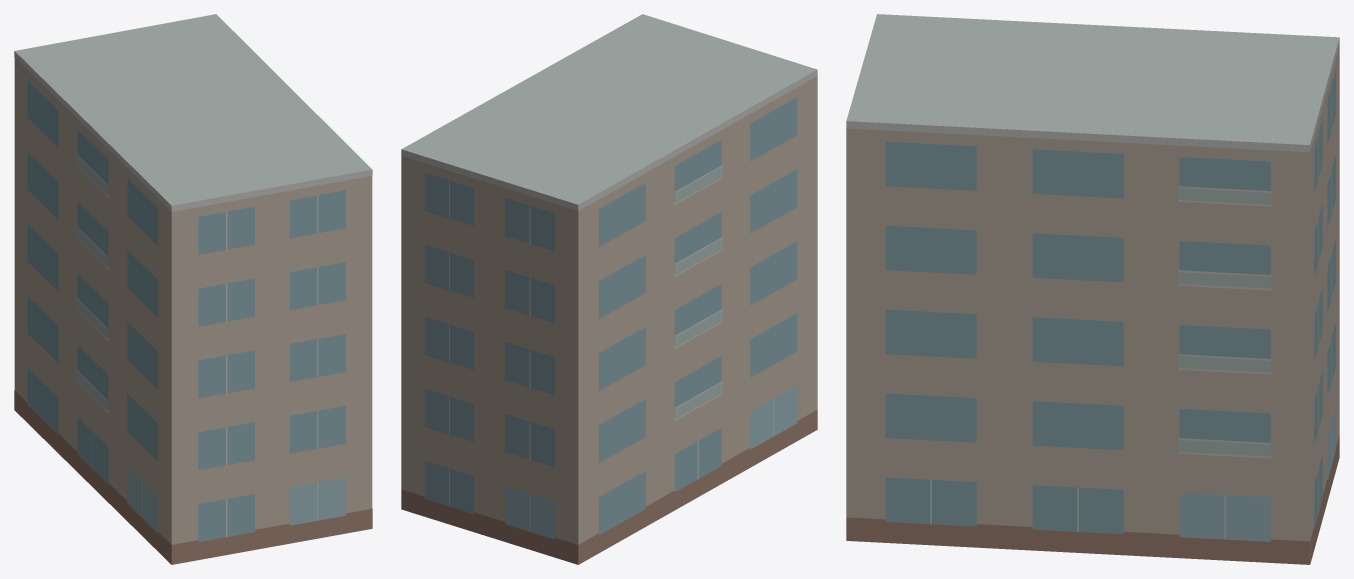
File: survey-upis-32873765.glb
3 renders of one model, left to right at view 1: azimuth 30°, elevation 25°; view 2: azimuth 150°, elevation 25°; view 3: azimuth 270°, elevation 25°, orthographic. The views are drawn at different scales.
Visible parts, largest first — view 1: survey-upis-32873765.tmp; view 2: survey-upis-32873765.tmp; view 3: survey-upis-32873765.tmp.
Boxes of the visible parts, box(x1,y1,x2,y2) form: survey-upis-32873765.tmp: box(14, 14, 372, 564); survey-upis-32873765.tmp: box(401, 14, 817, 564); survey-upis-32873765.tmp: box(846, 14, 1339, 564).
Bounding box in the file's own units: 9.39 × 14 × 14.92.
